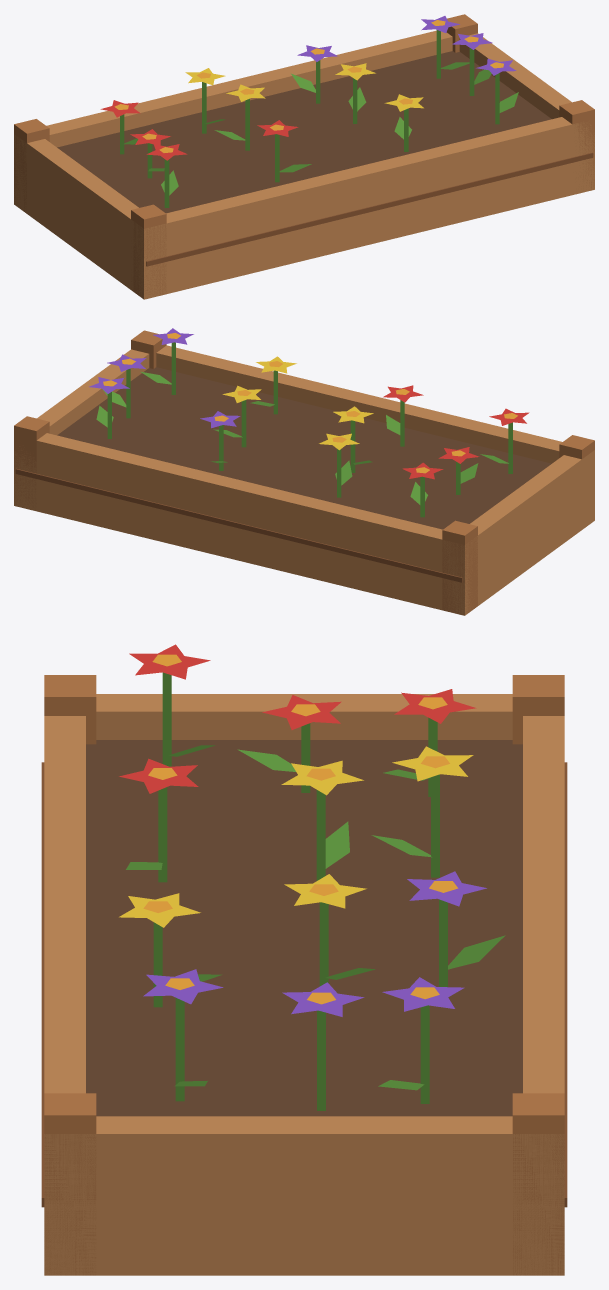
Rendered from flower_bed.glb.
3 views of the same model, one above another, from view 1: azimuth 30°, elevation 25°; view 2: azimuth 150°, elevation 25°; view 3: azimuth 270°, elevation 25° (orthographic). The views are drawn at different scales.
Parts seen in each view (by area): view 1: flower_bed; view 2: flower_bed; view 3: flower_bed.
Part boxes in pixels (x1=…): flower_bed: x1=14, y1=14, x2=594, y2=299; flower_bed: x1=14, y1=328, x2=594, y2=615; flower_bed: x1=41, y1=644, x2=567, y2=1275.
Size of the model in its own units: 2 by 0.4878 by 1.01.
Materials: 1 (1 with a texture image).
